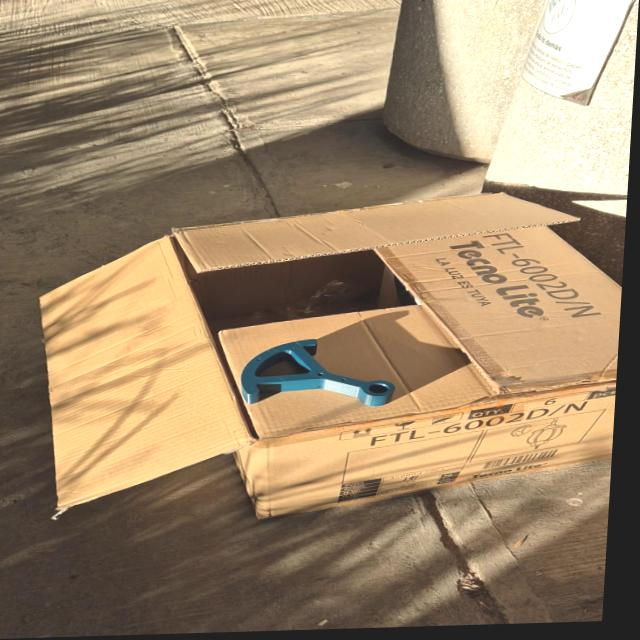haptic: (237, 336, 399, 411)
